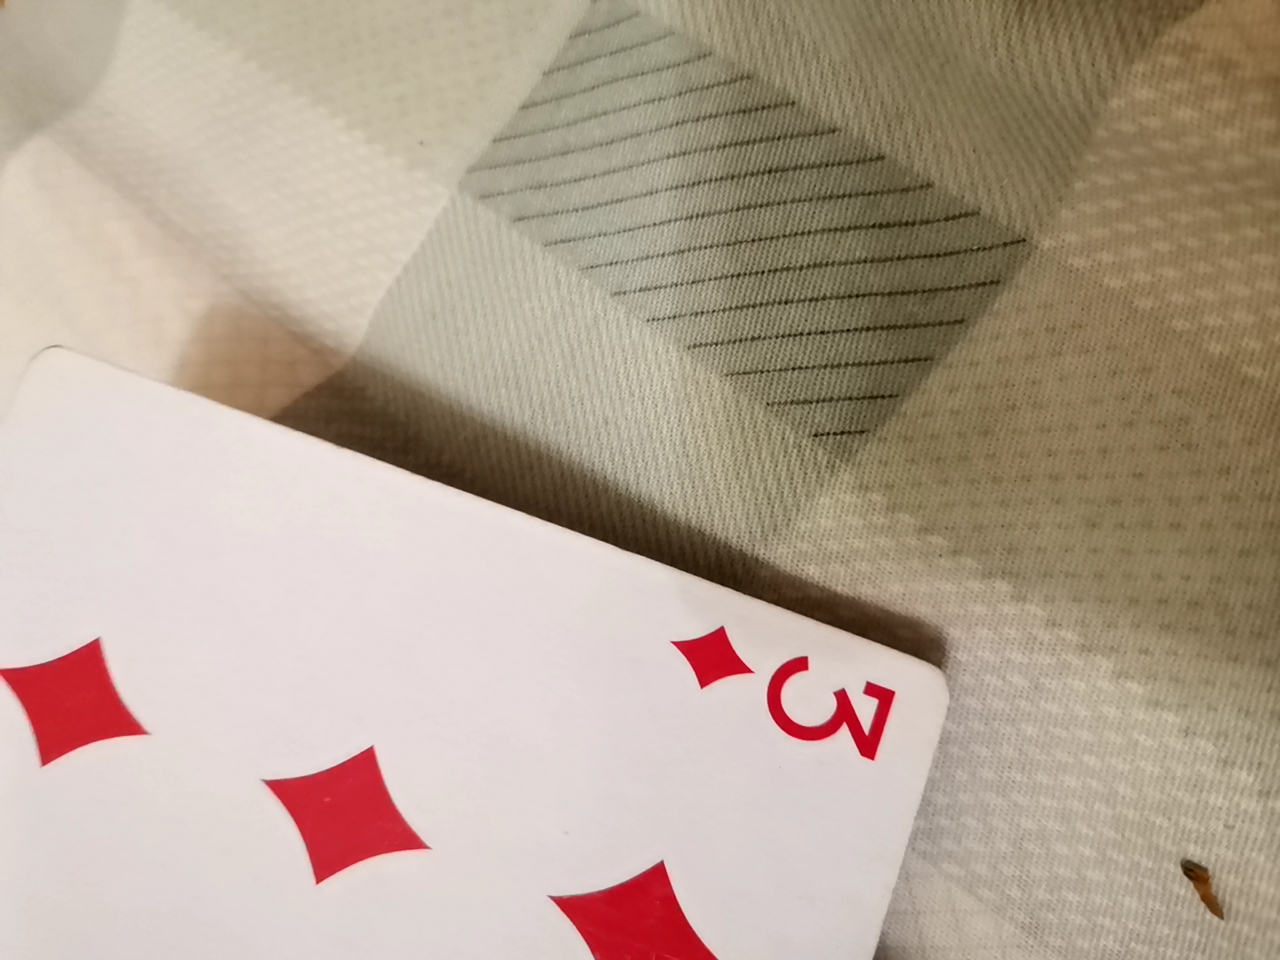fk 3: (3, 333, 989, 948)
